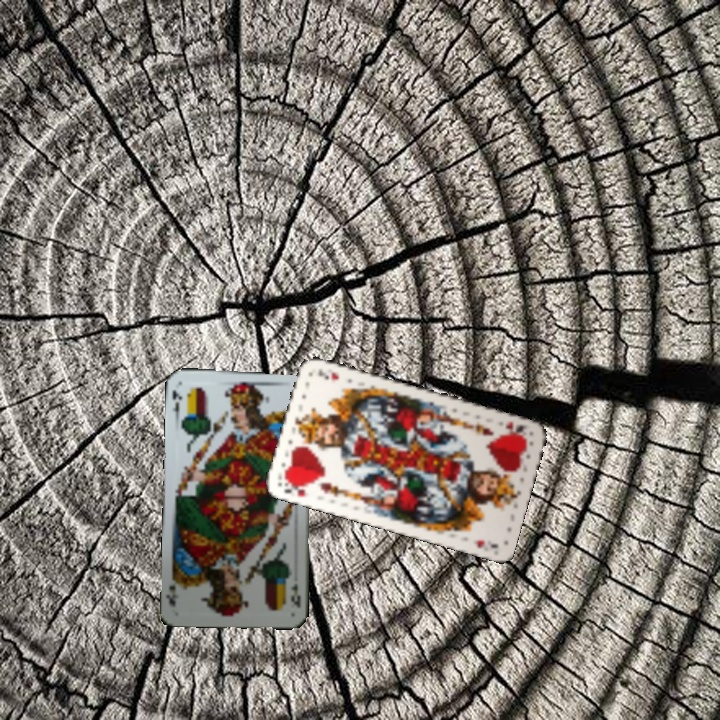EK: (168, 386, 185, 421), (287, 580, 303, 611)
HK: (280, 476, 310, 499), (501, 417, 529, 439)
